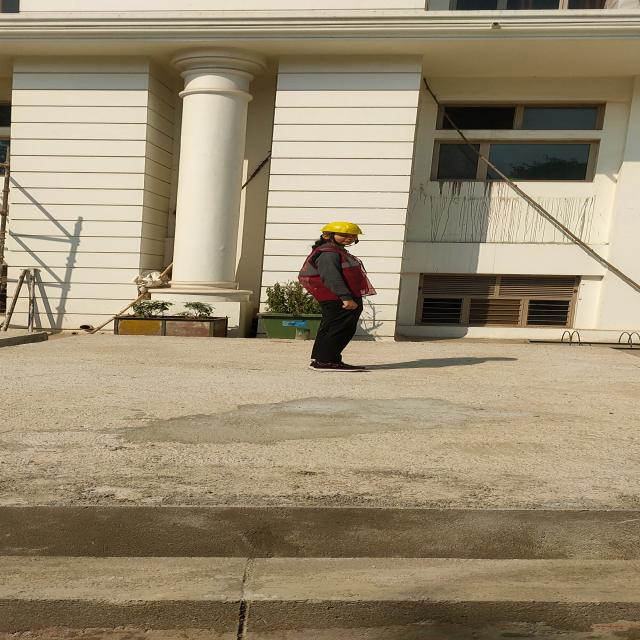safe: (299, 222, 377, 372)
